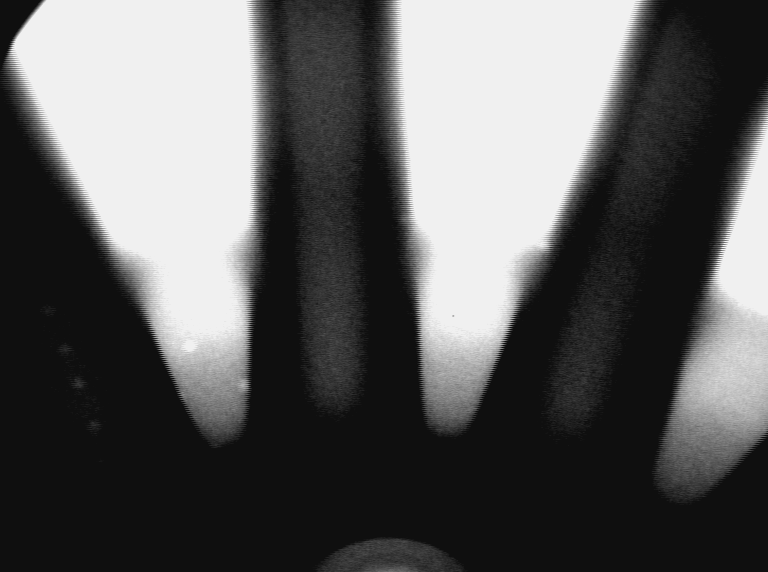defect: (56, 341, 79, 358)
